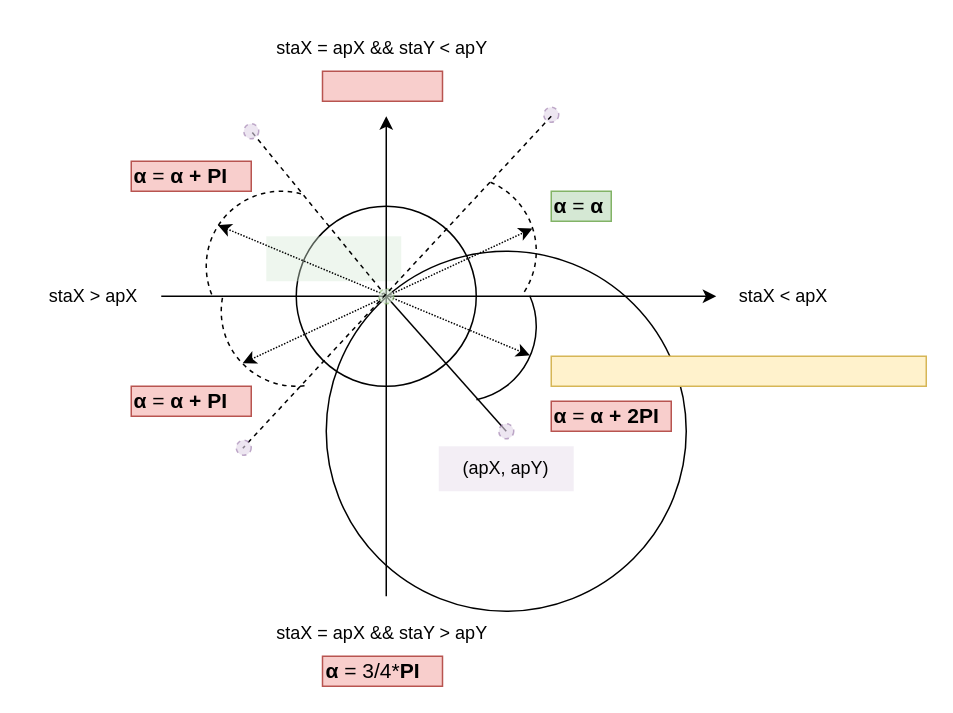
Image size: 953x713. Some labels were removed from this diagram. Here are the shapes that lost their labels. From the top down, the centre of each, then its label:
At point (381, 85): "α = 1/4* PI".
At point (333, 258): "(staX, staY)".
At point (738, 370): "α = arctan((apY-staY)/(apX - staX))".
